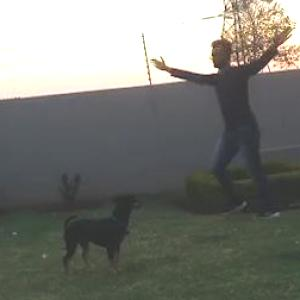takeoff: (151, 30, 289, 206)
